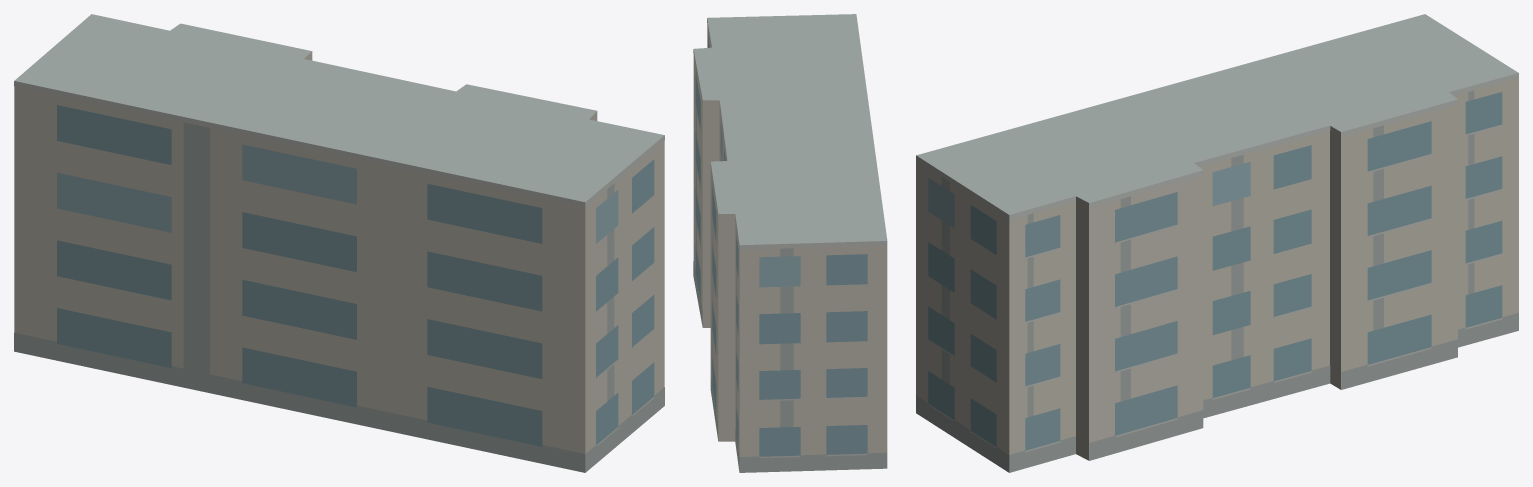
The model's file is survey-upis-32554795.glb.
3 renders of one model, left to right at view 1: azimuth 30°, elevation 25°; view 2: azimuth 150°, elevation 25°; view 3: azimuth 270°, elevation 25°, orthographic. The views are drawn at different scales.
Visible parts, largest first — view 1: survey-upis-32554795.tmp; view 2: survey-upis-32554795.tmp; view 3: survey-upis-32554795.tmp.
Boxes of the visible parts, <box> form: survey-upis-32554795.tmp: <box>14,14,664,472</box>; survey-upis-32554795.tmp: <box>693,14,887,472</box>; survey-upis-32554795.tmp: <box>916,14,1518,472</box>.
Size of the model in its own units: 20.41 by 12.2 by 25.85.
